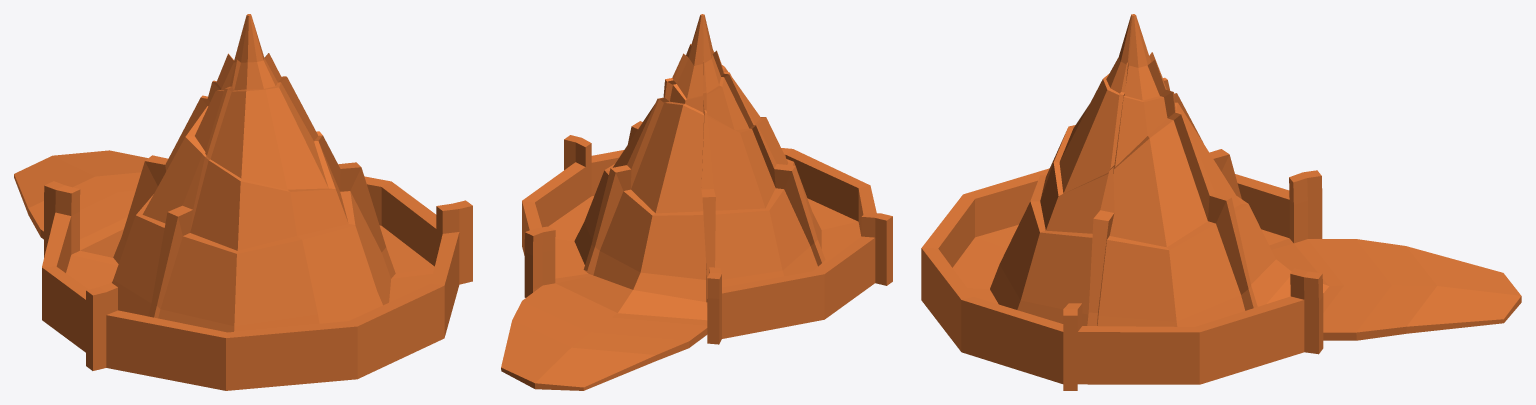
Rendered from Omashu.fbx.
The picture shows the model from 3 angles, left to right: view 1: azimuth 30°, elevation 25°; view 2: azimuth 150°, elevation 25°; view 3: azimuth 270°, elevation 25°; orthographic projection. The views are drawn at different scales.
Parts seen in each view (by area): view 1: Cylinder; view 2: Cylinder; view 3: Cylinder.
Part boxes in pixels (x1=…): Cylinder: x1=14, y1=14, x2=472, y2=390; Cylinder: x1=501, y1=14, x2=892, y2=390; Cylinder: x1=921, y1=14, x2=1521, y2=390.
Size of the model in its own units: 4290 by 3157 by 5954.
